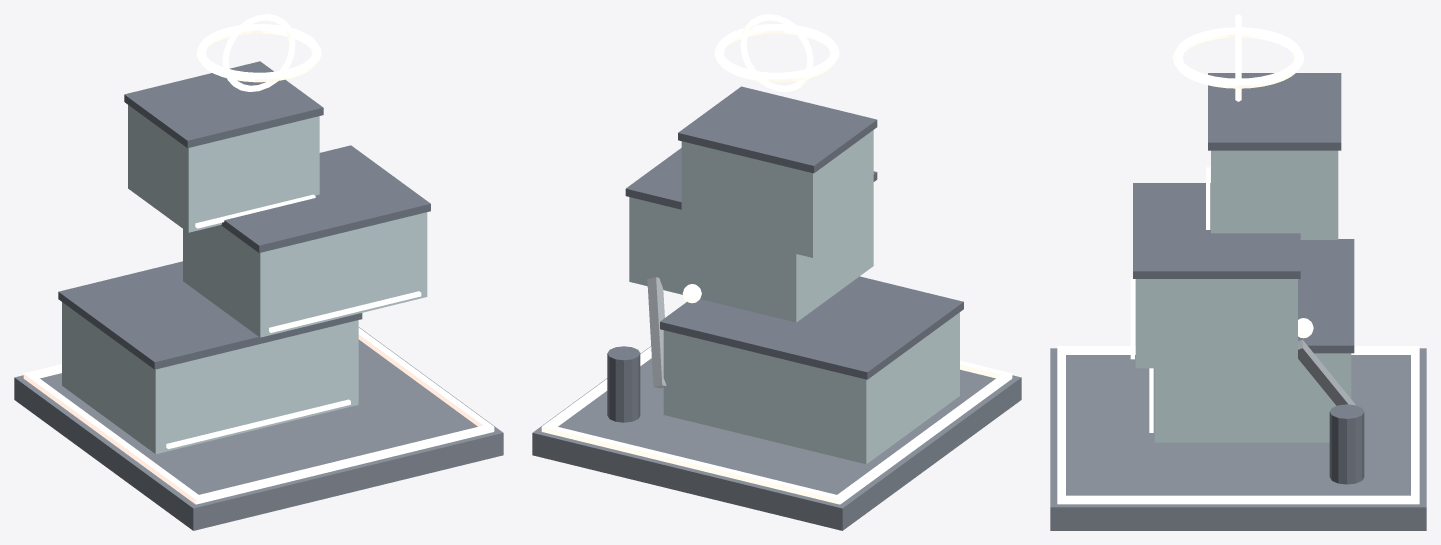
File: home_studio.glb
The picture shows the model from 3 angles, left to right: view 1: azimuth 30°, elevation 25°; view 2: azimuth 150°, elevation 25°; view 3: azimuth 270°, elevation 25°; orthographic projection. The views are drawn at different scales.
Visible parts, largest first — view 1: Cube, Cube.005, Cube.008, Cube.011, Cube.006, Cube.009, Cube.012, Cube.001, Torus, Cube.002, Cube.004, Torus.001 (+3 smaller); view 2: Cube, Cube.005, Cube.011, Cube.008, Cube.006, Cube.012, Cube.003, Torus, Cylinder, Cube.002, Cube.009, Cube.016 (+2 smaller); view 3: Cube, Cube.008, Cube.005, Cube.009, Cube.011, Cube.012, Cube.006, Cube.004, Torus, Cylinder, Cube.001, Cube.003 (+3 smaller).
Boxes of the visible parts, bbox=[...] form: Cube: bbox=[14, 327, 503, 530]; Cube.005: bbox=[62, 302, 358, 453]; Cube.008: bbox=[183, 212, 427, 337]; Cube.011: bbox=[128, 105, 319, 232]; Cube.006: bbox=[58, 261, 362, 369]; Cube.009: bbox=[221, 145, 430, 252]; Cube.012: bbox=[124, 61, 323, 148]; Cube.001: bbox=[194, 425, 493, 504]; Torus: bbox=[196, 24, 321, 82]; Cube.002: bbox=[23, 372, 198, 504]; Cube.004: bbox=[358, 327, 494, 431]; Torus.001: bbox=[222, 14, 295, 91]; Cube: bbox=[532, 346, 1021, 530]; Cube.005: bbox=[663, 312, 959, 464]; Cube.011: bbox=[681, 130, 873, 257]; Cube.008: bbox=[629, 197, 873, 322]; Cube.006: bbox=[660, 276, 963, 379]; Cube.012: bbox=[678, 86, 877, 173]; Cube.003: bbox=[542, 425, 840, 504]; Torus: bbox=[714, 24, 839, 82]; Cylinder: bbox=[607, 346, 640, 422]; Cube.002: bbox=[836, 372, 1012, 504]; Cube.009: bbox=[625, 148, 877, 209]; Cube.016: bbox=[647, 277, 666, 388]; Cube: bbox=[1050, 348, 1426, 530]; Cube.008: bbox=[1135, 279, 1297, 368]; Cube.005: bbox=[1154, 353, 1351, 442]; Cube.009: bbox=[1133, 183, 1300, 278]; Cube.011: bbox=[1211, 150, 1338, 239]; Cube.012: bbox=[1208, 73, 1341, 150]; Cube.006: bbox=[1298, 239, 1354, 353]; Cube.004: bbox=[1058, 495, 1418, 504]; Torus: bbox=[1172, 27, 1304, 88]; Cylinder: bbox=[1329, 404, 1364, 484]; Cube.001: bbox=[1057, 346, 1065, 504]; Cube.003: bbox=[1411, 346, 1419, 504].
Bounding box in the file's own units: 2.6 × 3.31 × 2.6.
